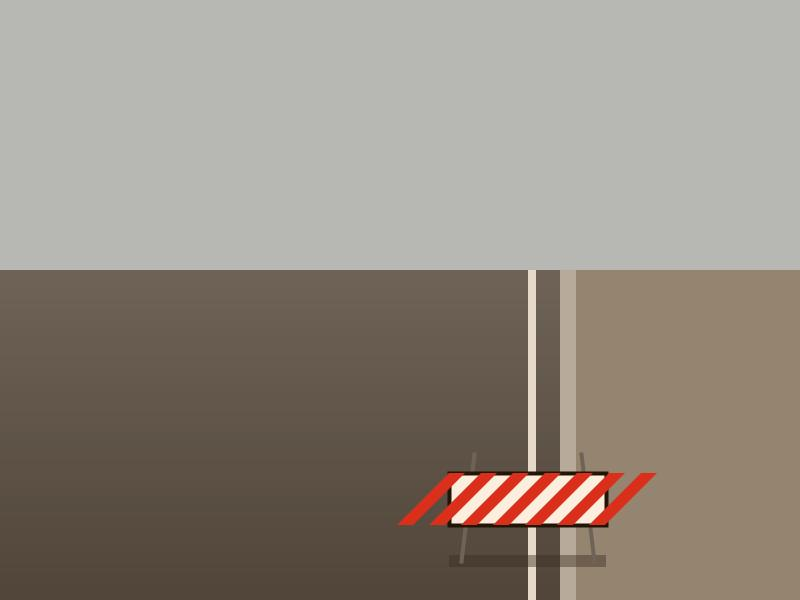ROAD_OBSTACLE: (449, 444, 606, 561)
